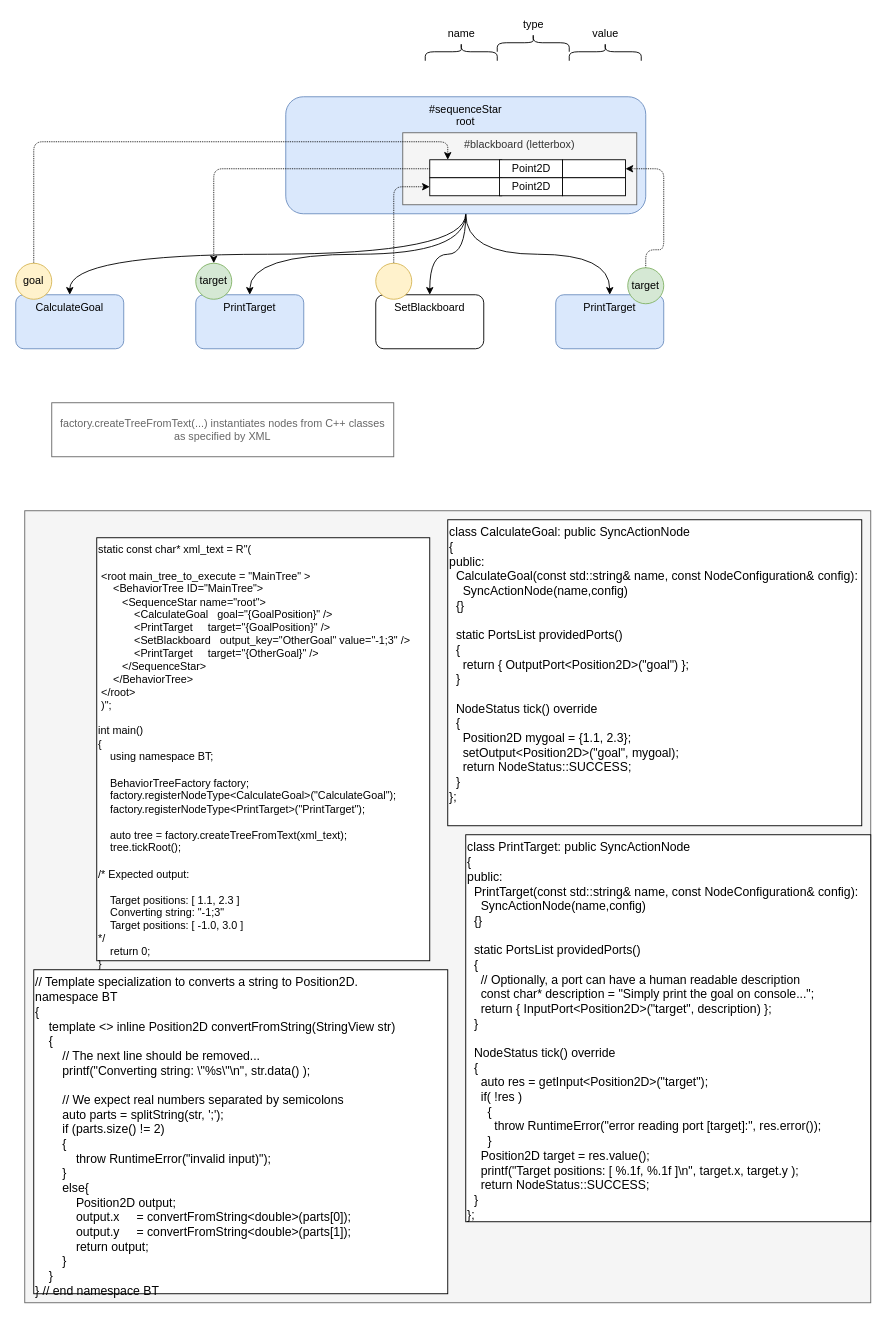
Some shapes in this 887 by 1319 pixel diagram are drawn without their labels. Here are the shapes that lost their labels. From the top down, the centre of each, then its label:
At point 465,168: "GoalPosition".
At point 465,186: "OtherGoal".
